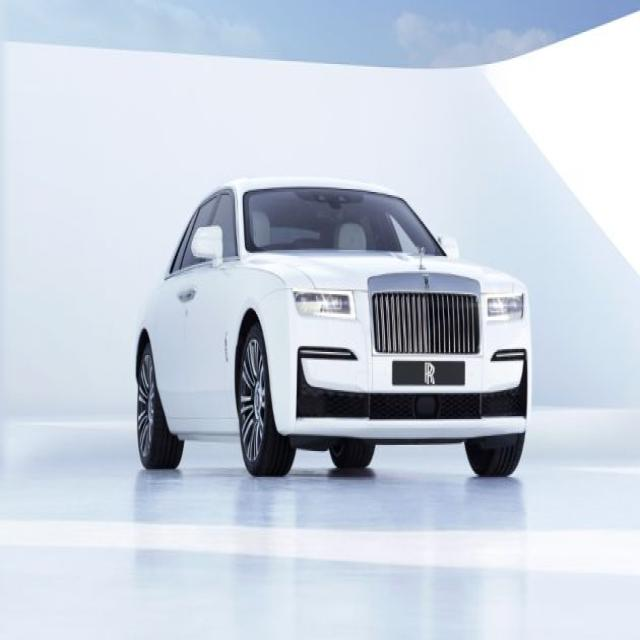Car: (134, 168, 538, 489)
